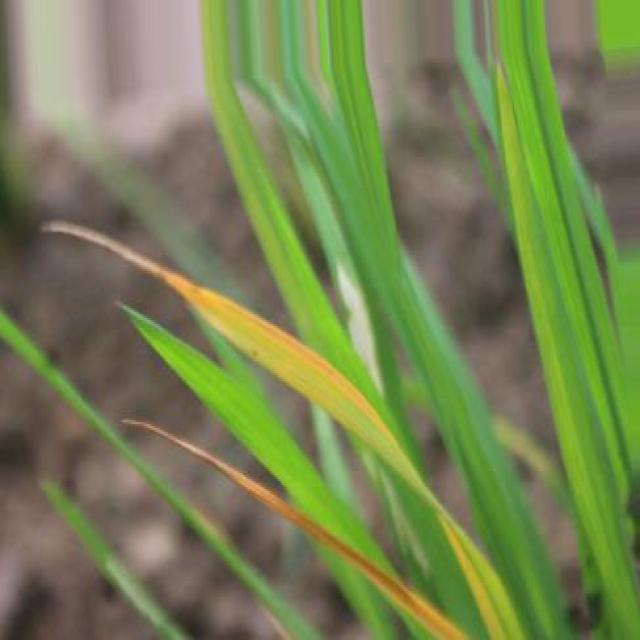Rice Tungro: (45, 221, 521, 637), (124, 422, 465, 639)
